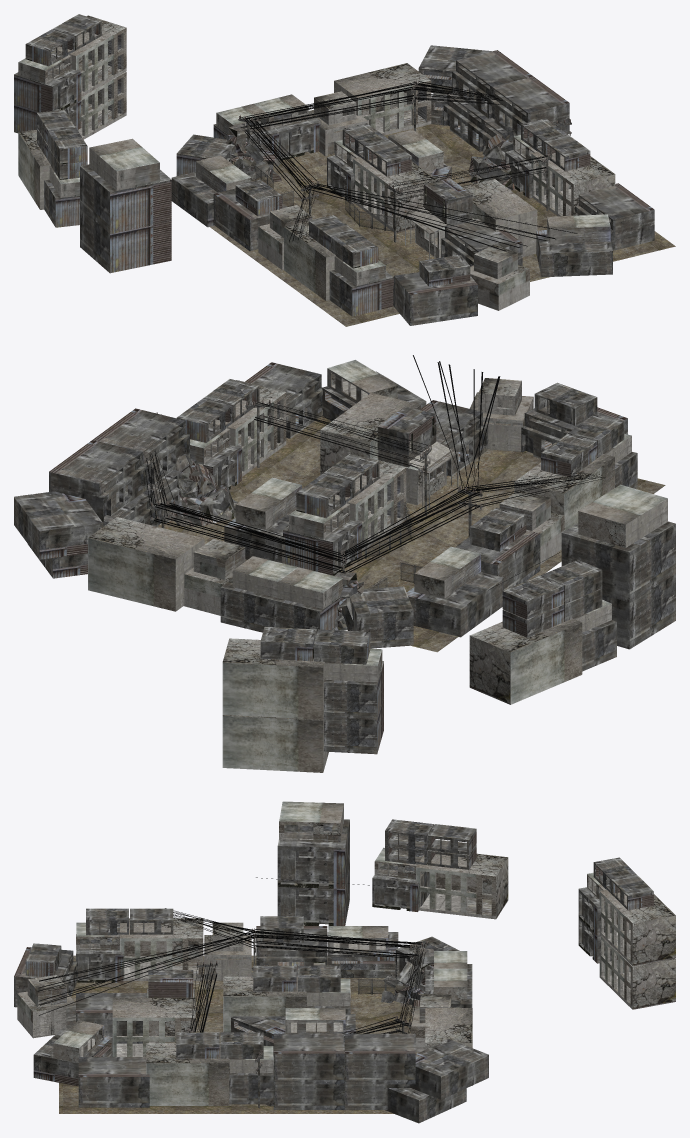
The model's file is abandoned_city_street_for_games.glb.
3 renders of one model, top to bottom at view 1: azimuth 30°, elevation 25°; view 2: azimuth 150°, elevation 25°; view 3: azimuth 270°, elevation 25°, orthographic. The views are drawn at different scales.
Visible parts, largest first — view 1: Plane.002, Cube.039, Cube.059, Cube.061, Cube.026, Cube.042, Cube.022, Cube.014, Cube.032, Cube.015, Cube.044, Cube.047 (+54 smaller); view 2: Plane.002, Cube.039, Cube.052, Cube.047, Cube.067, Cube.059, Cube.023, Cube.041, Cube.060, Cube.005, Cube.022, Cube.032 (+56 smaller); view 3: Plane.002, Cube.052, Cube.015, Cube, Cube.047, Cube.059, Cube.022, Cube.023, Cube.014, Cube.032, Cube.041, Cube.067 (+53 smaller).
Boxes of the visible parts, x1,y1,x2,y2 form: Plane.002: [209, 124, 675, 326]; Cube.039: [334, 63, 431, 135]; Cube.059: [80, 164, 171, 233]; Cube.061: [80, 205, 171, 273]; Cube.026: [353, 157, 436, 232]; Cube.042: [393, 272, 477, 325]; Cube.022: [488, 76, 569, 135]; Cube.014: [575, 183, 654, 250]; Cube.032: [462, 179, 537, 256]; Cube.015: [531, 151, 615, 216]; Cube.044: [470, 244, 529, 310]; Cube.047: [54, 15, 126, 96]; Plane.002: [158, 416, 665, 652]; Cube.039: [88, 517, 204, 611]; Cube.052: [469, 618, 582, 704]; Cube.047: [222, 638, 325, 719]; Cube.067: [222, 715, 328, 772]; Cube.059: [561, 521, 675, 602]; Cube.023: [49, 440, 146, 522]; Cube.041: [14, 491, 103, 559]; Cube.060: [578, 484, 667, 547]; Cube.005: [406, 572, 503, 637]; Cube.022: [92, 408, 189, 489]; Cube.032: [320, 393, 420, 474]; Plane.002: [59, 955, 418, 1113]; Cube.052: [416, 853, 508, 919]; Cube.015: [146, 1043, 229, 1105]; Cube: [120, 918, 203, 980]; Cube.047: [599, 890, 675, 966]; Cube.059: [277, 819, 349, 888]; Cube.022: [273, 1033, 344, 1084]; Cube.023: [345, 1033, 415, 1084]; Cube.014: [78, 1057, 149, 1107]; Cube.032: [112, 997, 195, 1056]; Cube.041: [409, 1039, 488, 1099]; Cube.067: [599, 936, 675, 1009].
Size of the model in its own units: 22.76 by 5.51 by 28.
6 materials, 5 textured.
